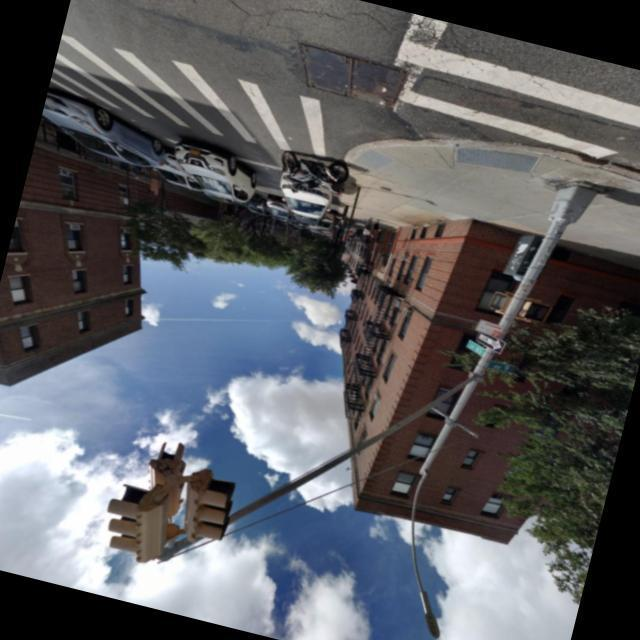off: (358, 343, 566, 592)
